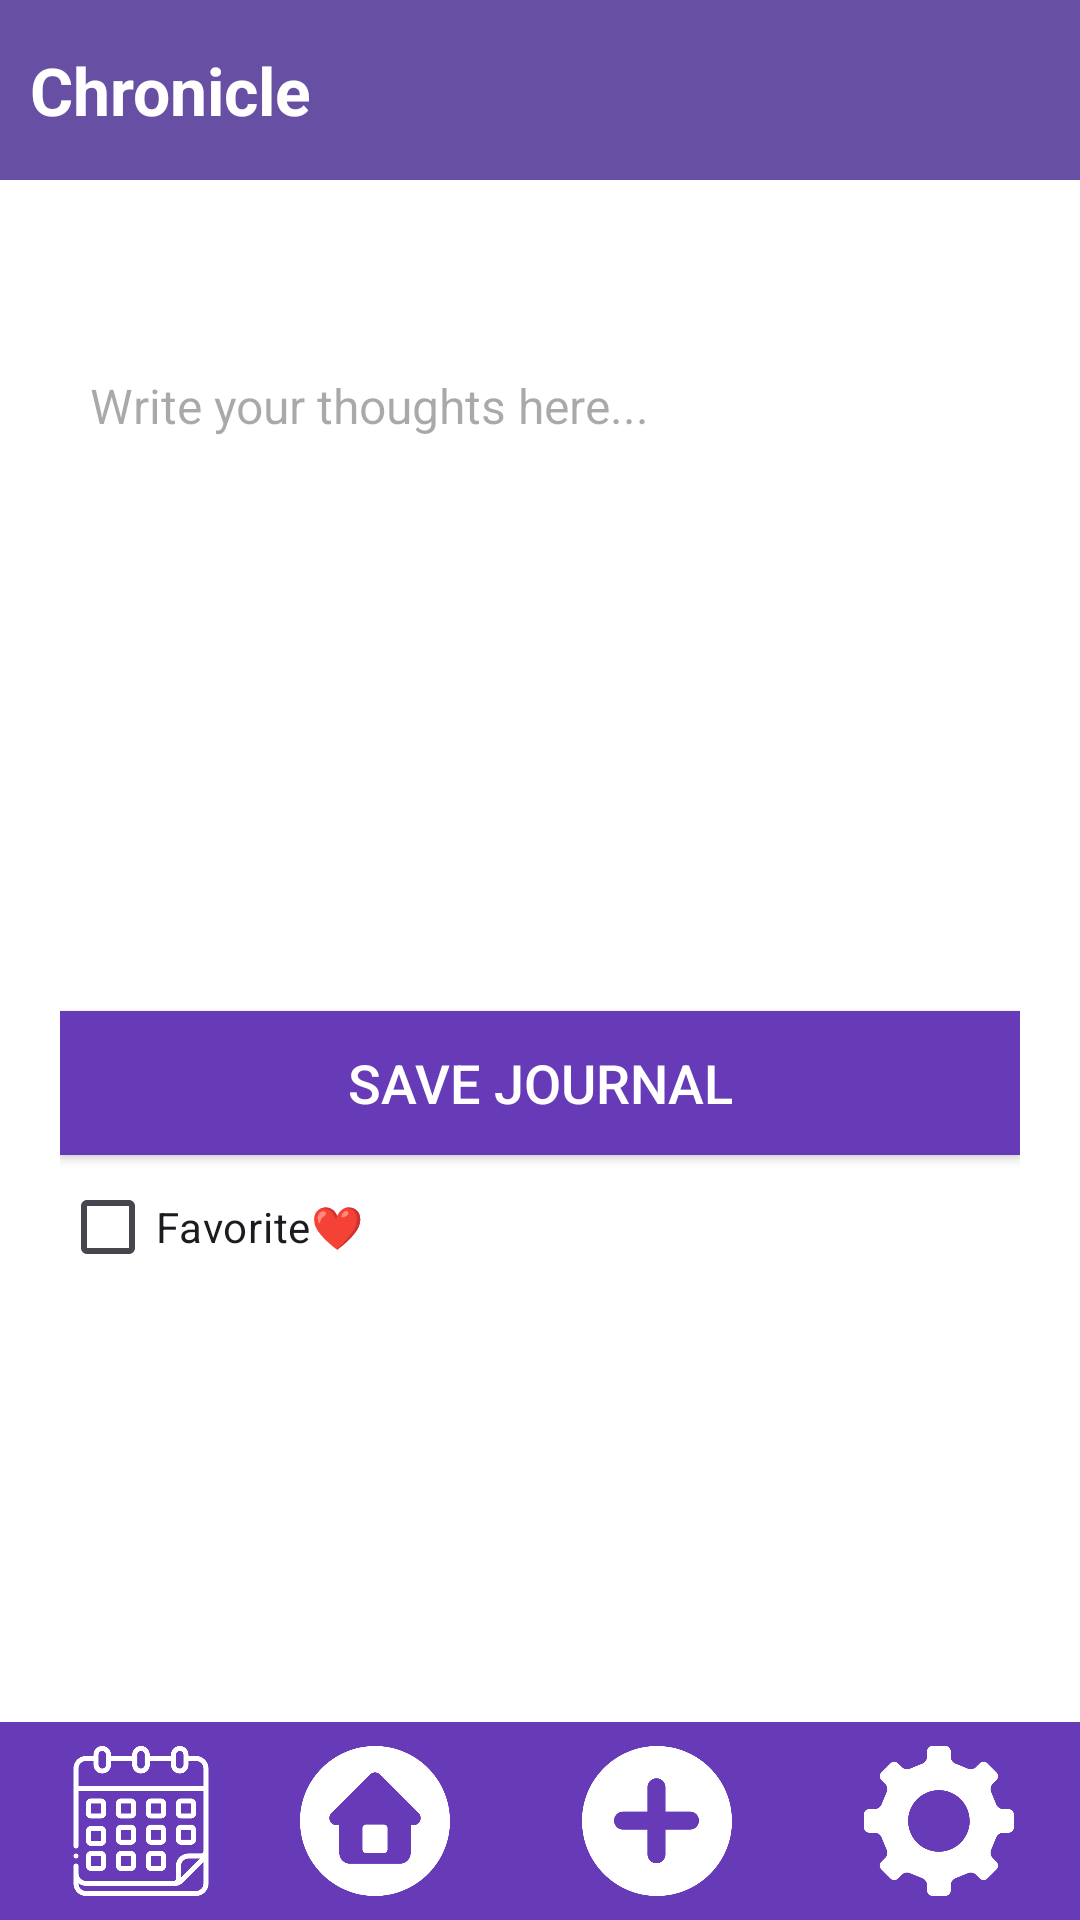

Where icons sit on this 1080x1920 app screen, as (x1, y1, x2, y2):
Calendar: (73, 1746, 209, 1896)
Create: (582, 1746, 732, 1896)
Dashboard: (300, 1746, 450, 1896)
Settings: (864, 1746, 1014, 1896)
